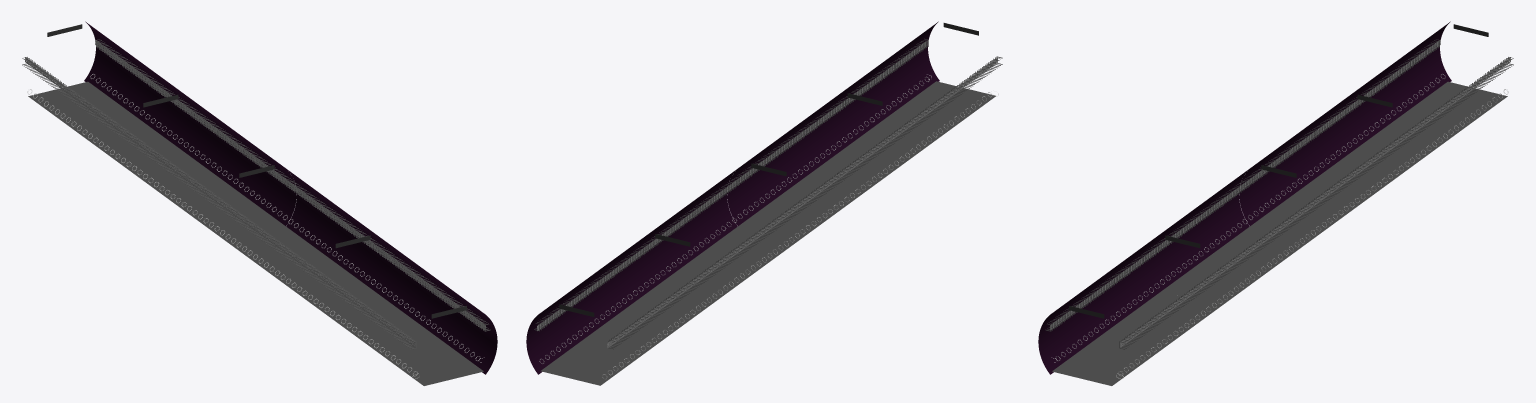
File: Tunel.fbx
The picture shows the model from 3 angles, left to right: view 1: azimuth 30°, elevation 25°; view 2: azimuth 150°, elevation 25°; view 3: azimuth 330°, elevation 25°; orthographic projection.
Visible parts, largest first — view 1: Cylinder.001, Cylinder.008, Circle, Cylinder.005, Cylinder.003; view 2: Cylinder.001, Cylinder.008, Circle, Cylinder.005, Cylinder.003; view 3: Cylinder.001, Cylinder.008, Circle, Cylinder.005, Cylinder.003.
Boxes of the visible parts, box(x1,y1,x2,y2) form: Cylinder.001: box(28, 81, 483, 385); Cylinder.008: box(84, 21, 497, 374); Circle: box(22, 39, 490, 349); Cylinder.005: box(27, 74, 480, 376); Cylinder.003: box(47, 24, 466, 318); Cylinder.001: box(540, 81, 995, 385); Cylinder.008: box(526, 21, 939, 374); Circle: box(534, 38, 1002, 349); Cylinder.005: box(539, 76, 992, 379); Cylinder.003: box(559, 23, 978, 316); Cylinder.001: box(1052, 81, 1507, 385); Cylinder.008: box(1038, 21, 1451, 374); Circle: box(1045, 39, 1513, 349); Cylinder.005: box(1055, 74, 1508, 376); Cylinder.003: box(1069, 24, 1488, 318).
Bounding box in the file's own units: 200 × 170 × 1703.
